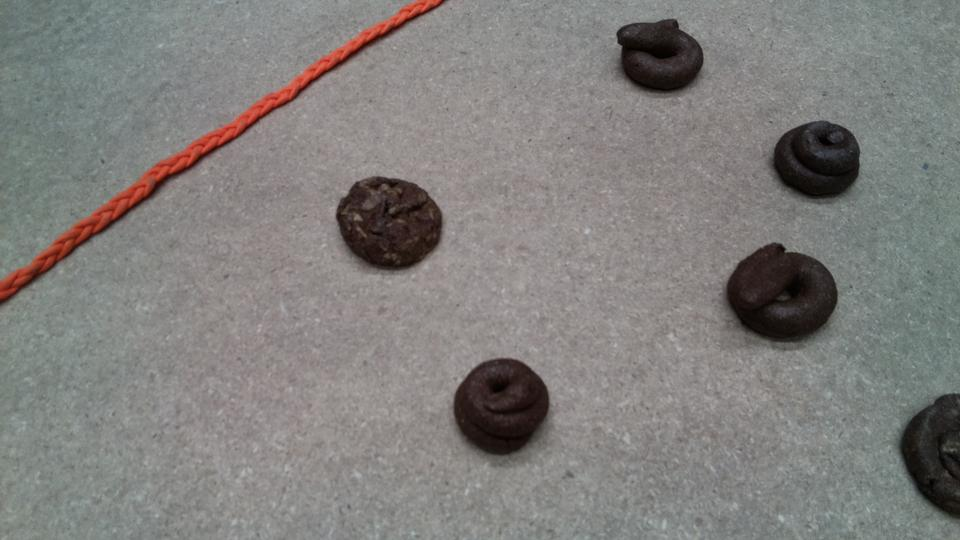poop: (724, 239, 844, 344), (335, 173, 445, 273), (449, 352, 550, 455), (900, 388, 960, 521), (770, 119, 863, 201), (613, 16, 706, 93)
rope: (1, 3, 430, 290)
